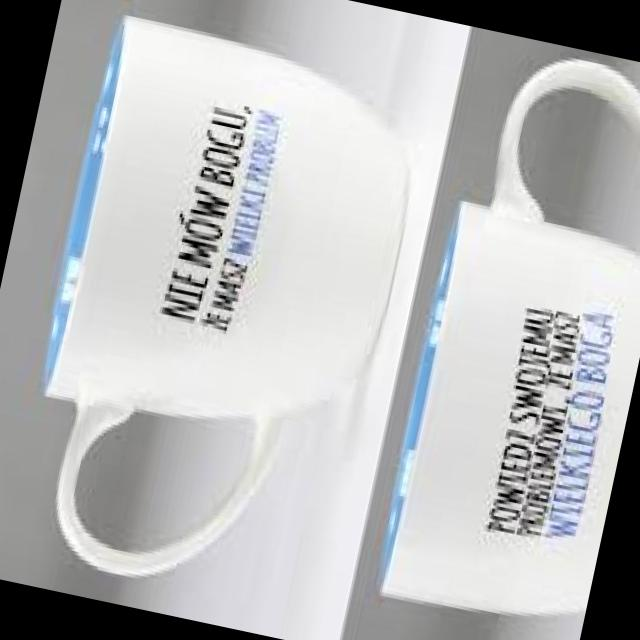Coffee Mug: (4, 12, 434, 612), (372, 37, 640, 635)
